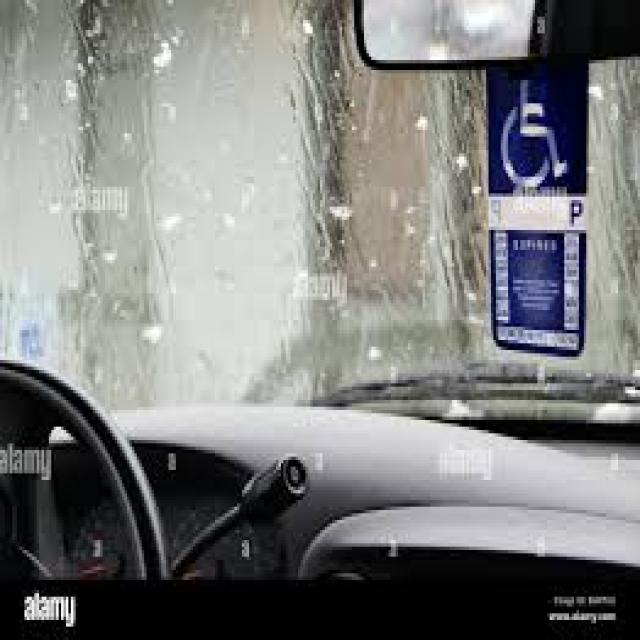car-handicap-placard: (504, 72, 566, 188)
